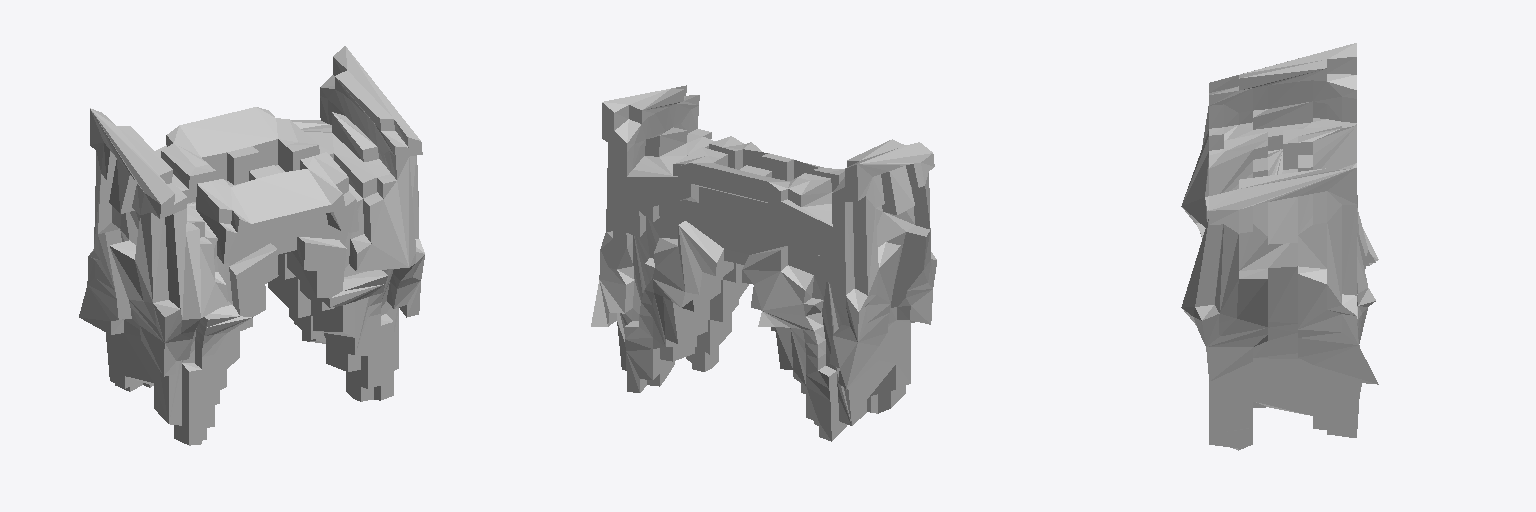
The model's file is HeavyDoubleShooterBot_LOD0-3.obj.
3 views of the same model, side by side, from view 1: azimuth 30°, elevation 25°; view 2: azimuth 150°, elevation 25°; view 3: azimuth 270°, elevation 25° (orthographic).
Visible parts, largest first — view 1: HeavyDoubleShooterBot_LOD0-3; view 2: HeavyDoubleShooterBot_LOD0-3; view 3: HeavyDoubleShooterBot_LOD0-3.
Boxes of the visible parts, <box> form: HeavyDoubleShooterBot_LOD0-3: <box>79,46,424,445</box>; HeavyDoubleShooterBot_LOD0-3: <box>591,85,936,441</box>; HeavyDoubleShooterBot_LOD0-3: <box>1181,43,1378,450</box>.
Size of the model in its own units: 2.39 by 2.26 by 1.34.